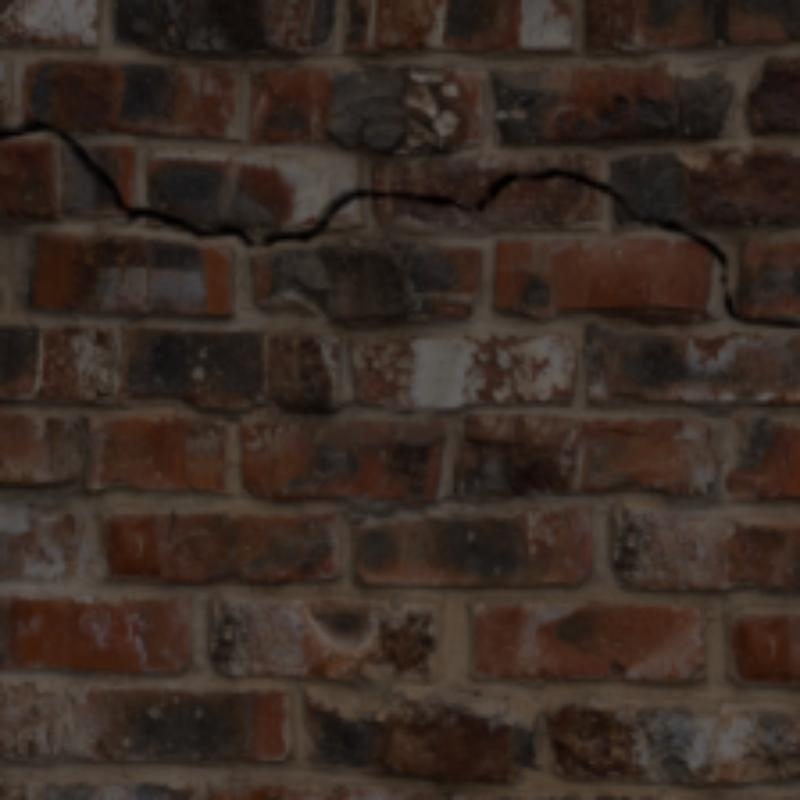crack: (0, 118, 796, 329)
